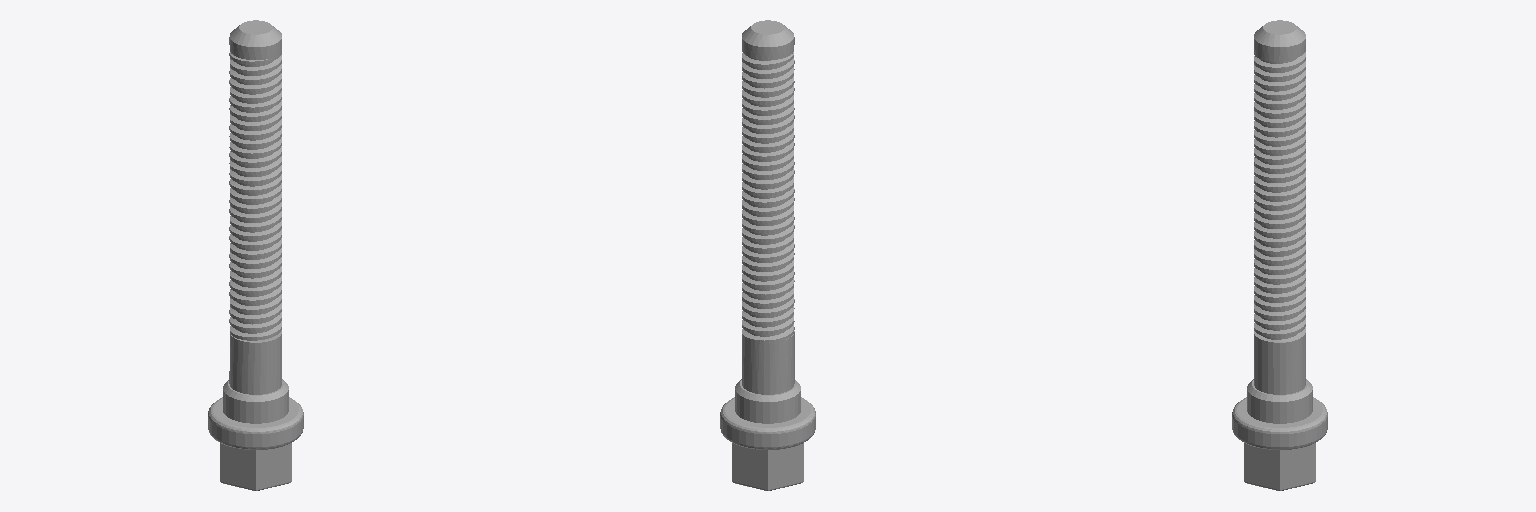
robot.urdf — bolt_short:
<?xml version="1.0" ?>
<robot name="bolt_short">
    <link name="baseLink">
        <contact>
            <lateral_friction value="10"/>
            <rolling_friction value="0.0"/>
            <contact_cfm value="0.0"/>
            <contact_erp value="1.0"/>
        </contact>

        <inertial>
            <origin xyz="-2.1298192955716385e-06 -1.7214306245443138e-06 0.040894843413992146" rpy="0 0 0"/>
            <mass value="0.0859881123303028"/>
            <inertia ixx="8.5e-05" iyy="8.5e-05" izz="2e-06" ixy="0.0" iyz="0.0" ixz="0.0"/>
        </inertial>
        <visual>
            <origin xyz="0 0 0" rpy="0 0 0"/>
            <geometry>
                <mesh filename="bolt_short.stl" scale="0.001 0.001 0.001"/>
            </geometry>
            <material name="silver">
                <color rgba="0.700 0.700 0.700 1.000"/>
            </material>
        </visual>
        <collision>
            <origin xyz="0 0 0.05" rpy="0 0 0"/>
            <geometry>
                <cylinder radius="0.004" length="0.1"/>
            </geometry>
<!--            <geometry>-->
<!--                <mesh filename="bolt_short.stl" scale="0.001 0.001 0.001"/>-->
<!--            </geometry>-->
        </collision>
    </link>
</robot>

--- Facts derived from the render (not from the file) ---
Views: 3 orthographic renders of the robot side by side, from view 1: azimuth 30°, elevation 25°; view 2: azimuth 150°, elevation 25°; view 3: azimuth 270°, elevation 25°.
Robot: bolt_short — 1 links, 0 joints (none); root link baseLink; default pose: every joint at zero.
Visible links, largest first — view 1: baseLink; view 2: baseLink; view 3: baseLink.
Boxes of the visible links, left/top/right/bottom form: baseLink: left=208, top=20, right=303, bottom=490; baseLink: left=720, top=20, right=815, bottom=490; baseLink: left=1232, top=20, right=1327, bottom=490.
Size in the robot's own frame: 0.02 by 0.02 by 0.103 metres.
Meshes: 1 distinct files referenced, 1 mesh visuals loaded (1 binary STL).